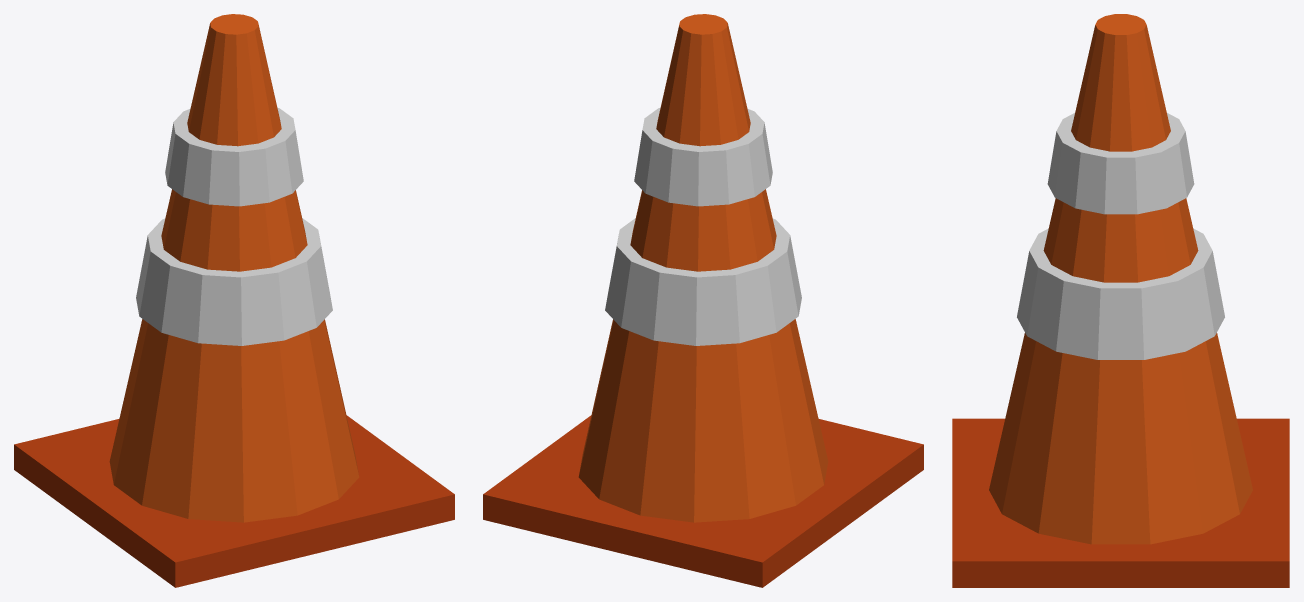
The picture shows the model from 3 angles, left to right: view 1: azimuth 30°, elevation 25°; view 2: azimuth 150°, elevation 25°; view 3: azimuth 270°, elevation 25°; orthographic projection. The views are drawn at different scales.
Parts seen in each view (by area): view 1: gh_cone; view 2: gh_cone; view 3: gh_cone.
Part boxes in pixels (bbox=[...]): gh_cone: bbox=[14, 14, 454, 587]; gh_cone: bbox=[483, 14, 923, 587]; gh_cone: bbox=[952, 14, 1289, 587].
Size of the model in its own units: 0.46 by 0.74 by 0.46.
